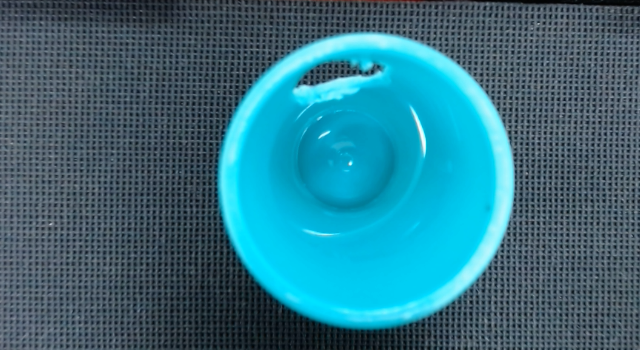hole: (294, 58, 386, 91)
